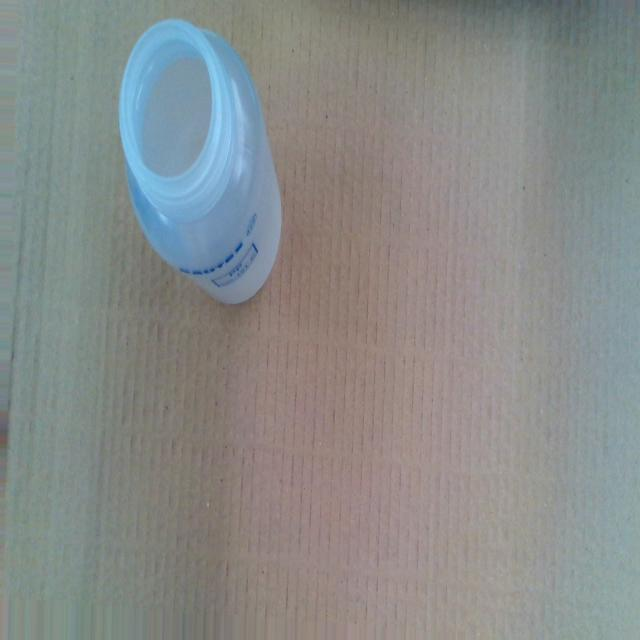bottle: (118, 16, 284, 303)
